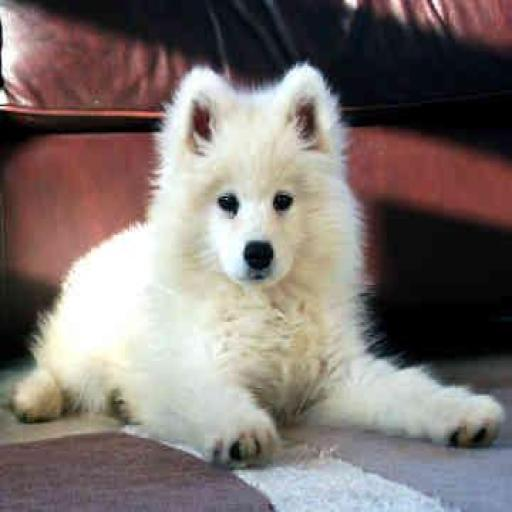dog_face: (153, 65, 352, 286)
